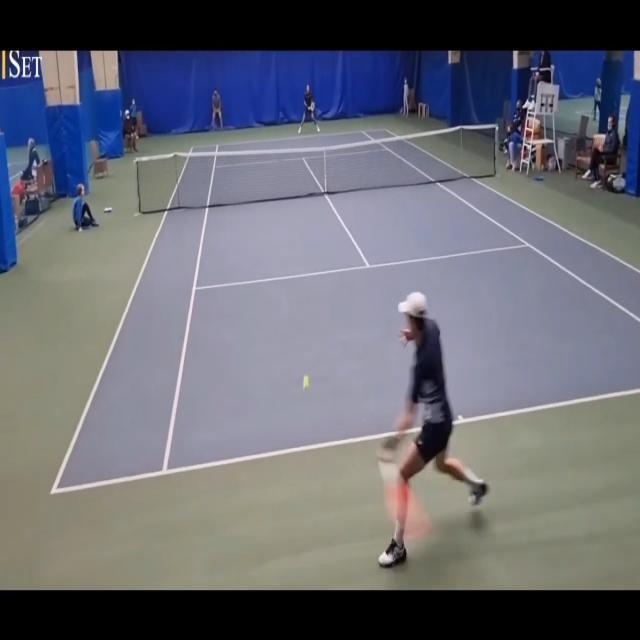court: (50, 129, 640, 496)
net: (135, 121, 500, 208)
player: (376, 285, 488, 570)
